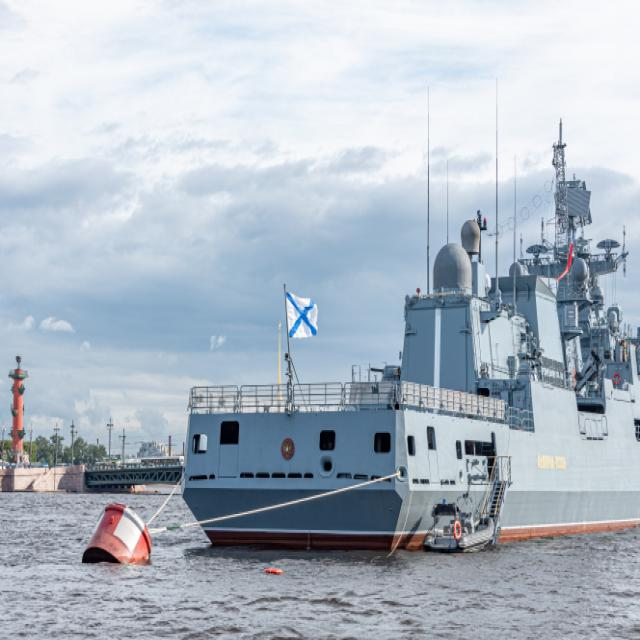Fragata: (177, 107, 640, 557)
